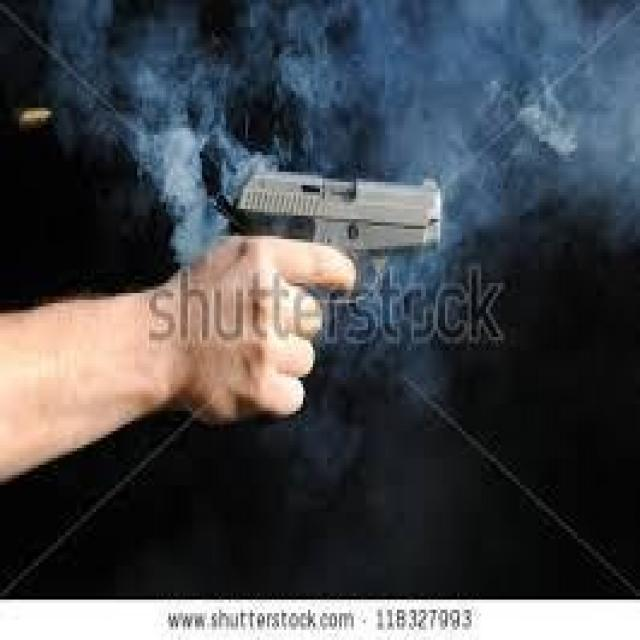gun: (209, 162, 441, 370)
